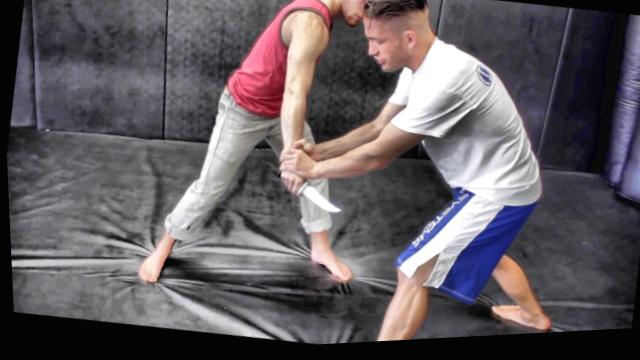knife: (267, 166, 350, 222)
